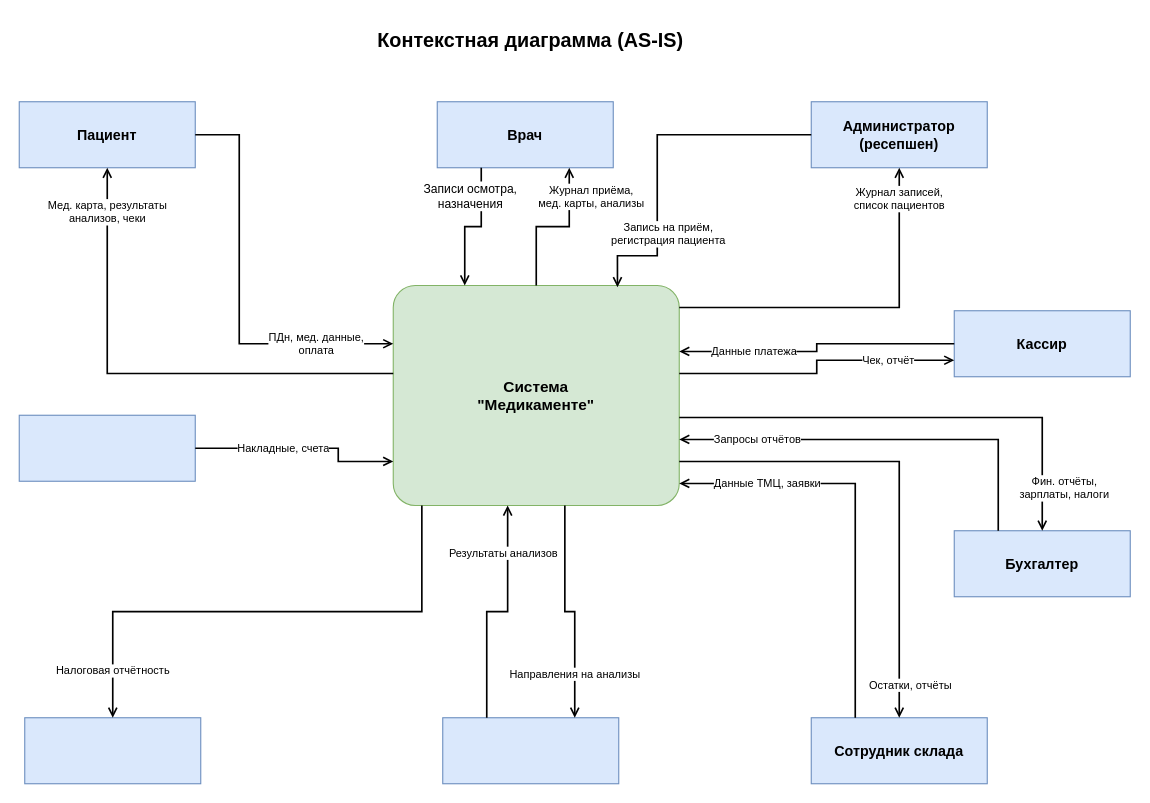
Image size: 1150x803. Some labels were removed from this diagram. The shapes that lost their labels are listed below. From the top down, each one's centre as x and y in pixels, then its label:
At pixel 106 447: "Поставщики".
At pixel 112 750: "Налоговые органы".
At pixel 530 750: "Лаборатория".
